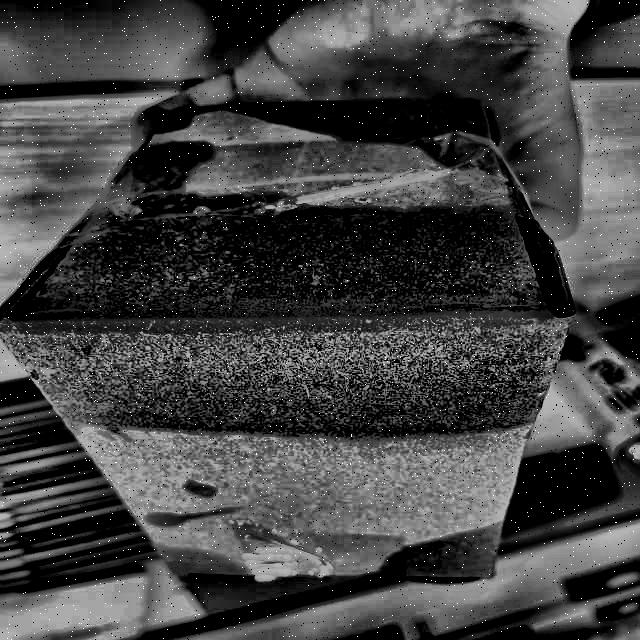box: (1, 96, 575, 592)
wet: (22, 101, 573, 437), (384, 521, 506, 585), (151, 546, 253, 588)
